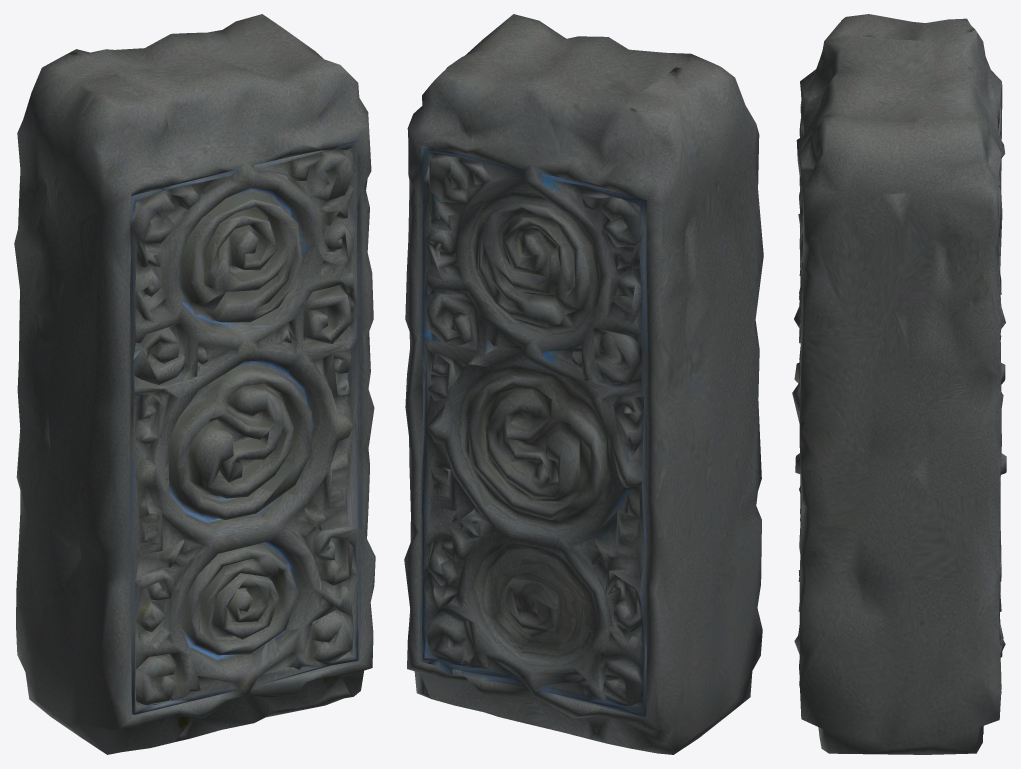
Rendered from sorting_stone.glb.
The picture shows the model from 3 angles, left to right: view 1: azimuth 30°, elevation 25°; view 2: azimuth 150°, elevation 25°; view 3: azimuth 270°, elevation 25°; orthographic projection. The views are drawn at different scales.
Parts seen in each view (by area): view 1: sorting_stone; view 2: sorting_stone; view 3: sorting_stone.
Part boxes in pixels (x1,y1,x2,y2): sorting_stone: (14,14,375,754); sorting_stone: (404,14,763,754); sorting_stone: (792,14,1006,754).
Bounding box in the file's own units: 0.9003 × 2 × 0.6204.
1 material, 1 textured.
